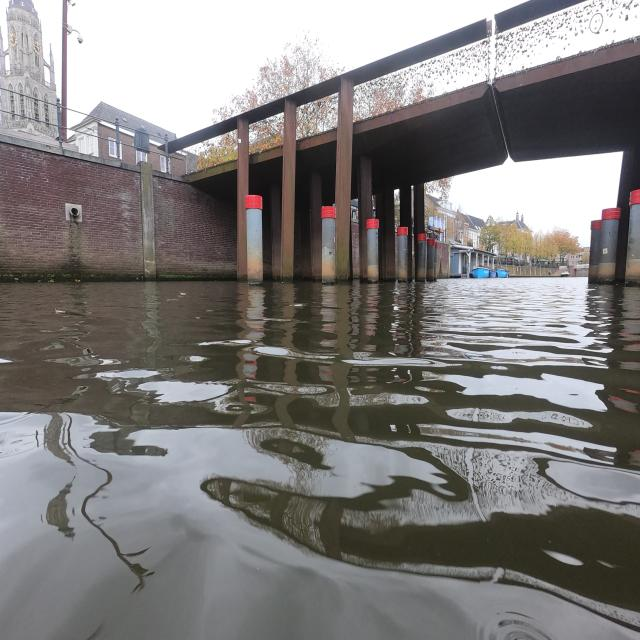boat: (469, 267, 489, 279), (496, 268, 508, 278)
sky: (66, 8, 502, 130), (452, 158, 620, 234)
wall: (4, 136, 238, 276), (602, 216, 616, 260)
water: (2, 282, 634, 636)
